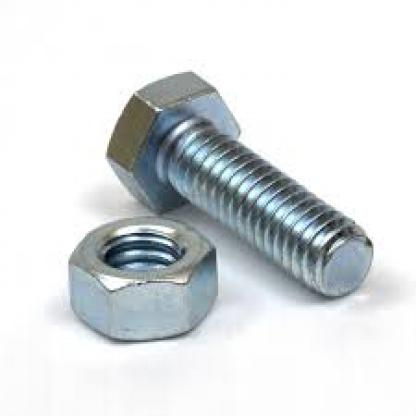METAL: (104, 68, 372, 298), (65, 215, 216, 340)
